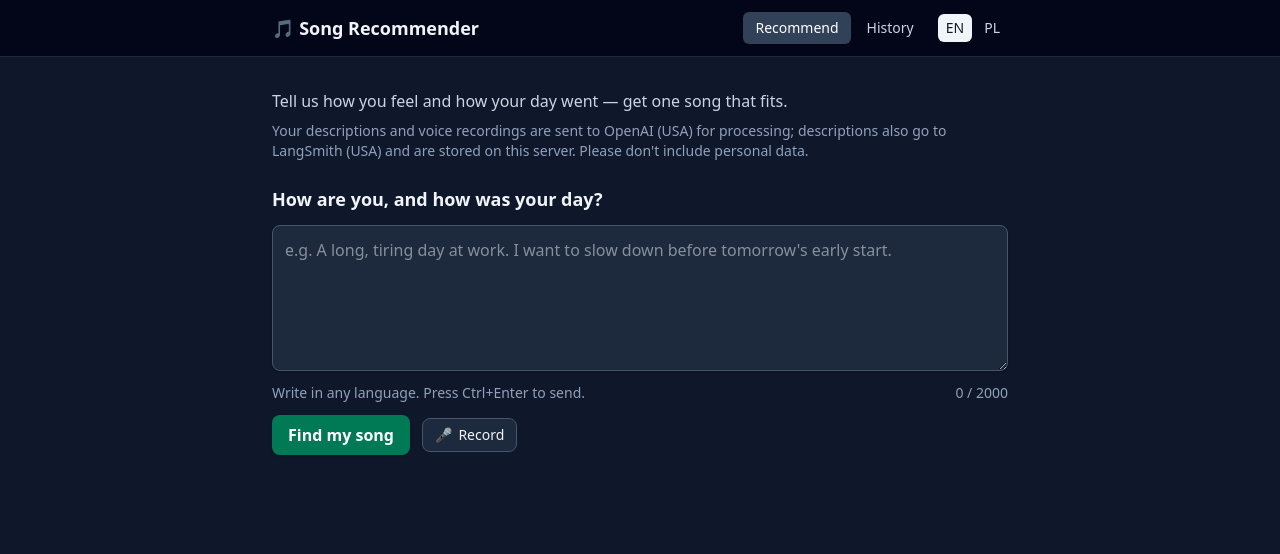
it: voice input › says so when no speech was recognized and restores the typed text
Type "typed first" into the text box labelled "How are you, and how was your day?" at x=640, y=298, box [272,225,1008,371]
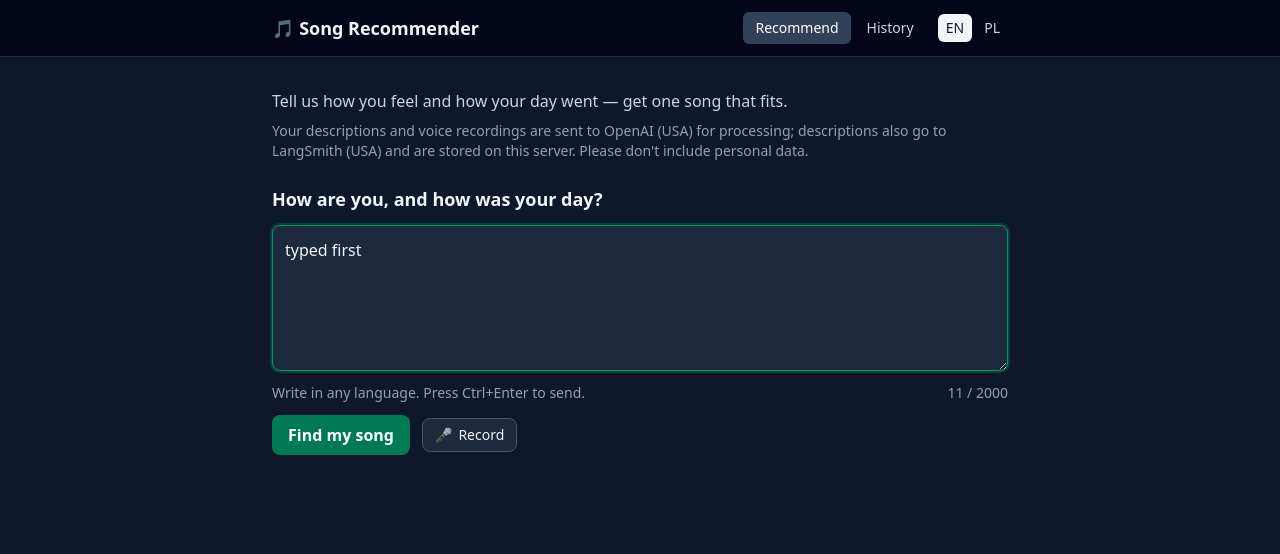
Click the button "🎤 Record" at x=470, y=435, box [422,418,517,452]
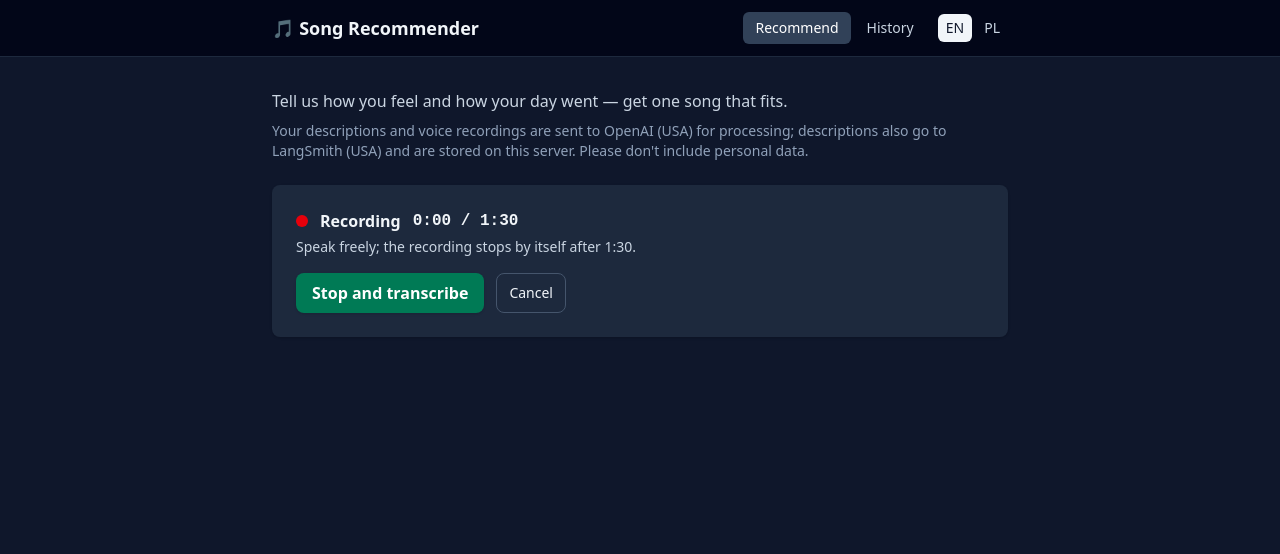
Expected: the text "0:00 / 1:30" is shown, [413,209,518,233]
Click the button "Stop and transcribe" at x=390, y=293, box [296,273,484,313]
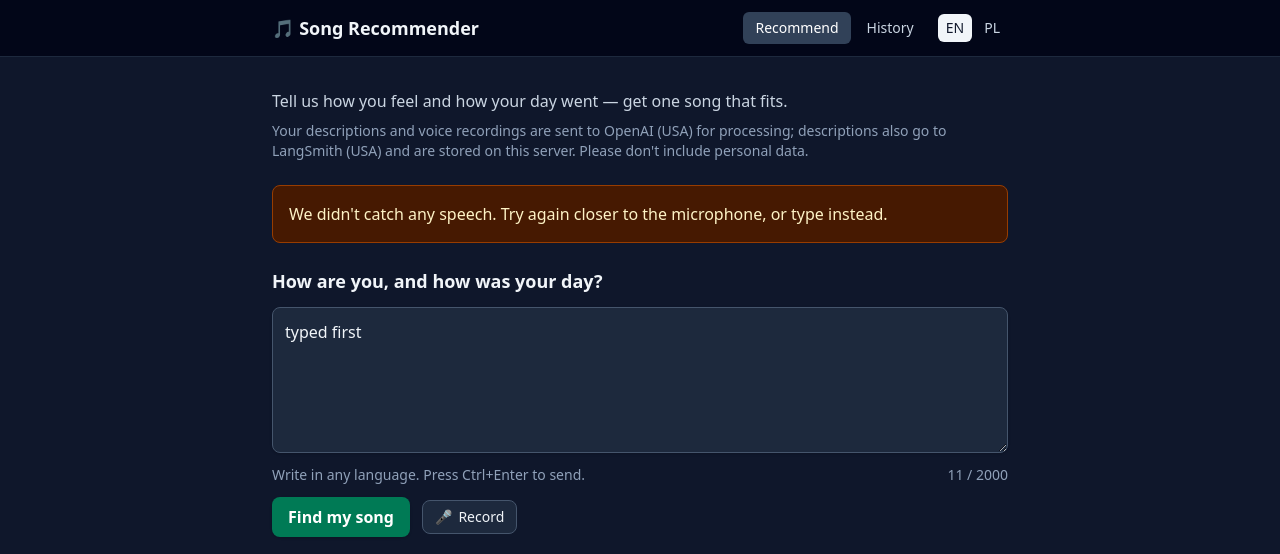
Expected: the text "We didn't catch any speech" is shown, [289,203,888,225]
Expected: the text box labelled "How are you, and how was your day?" holds "typed first", [272,307,1008,453]
